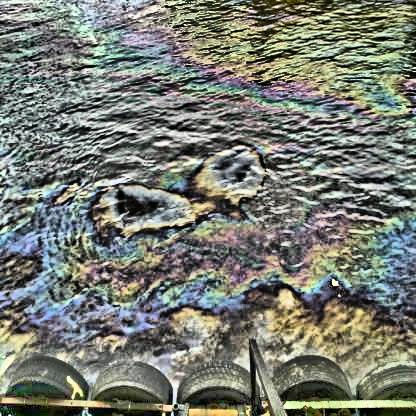rainbow: (1, 3, 416, 388)
